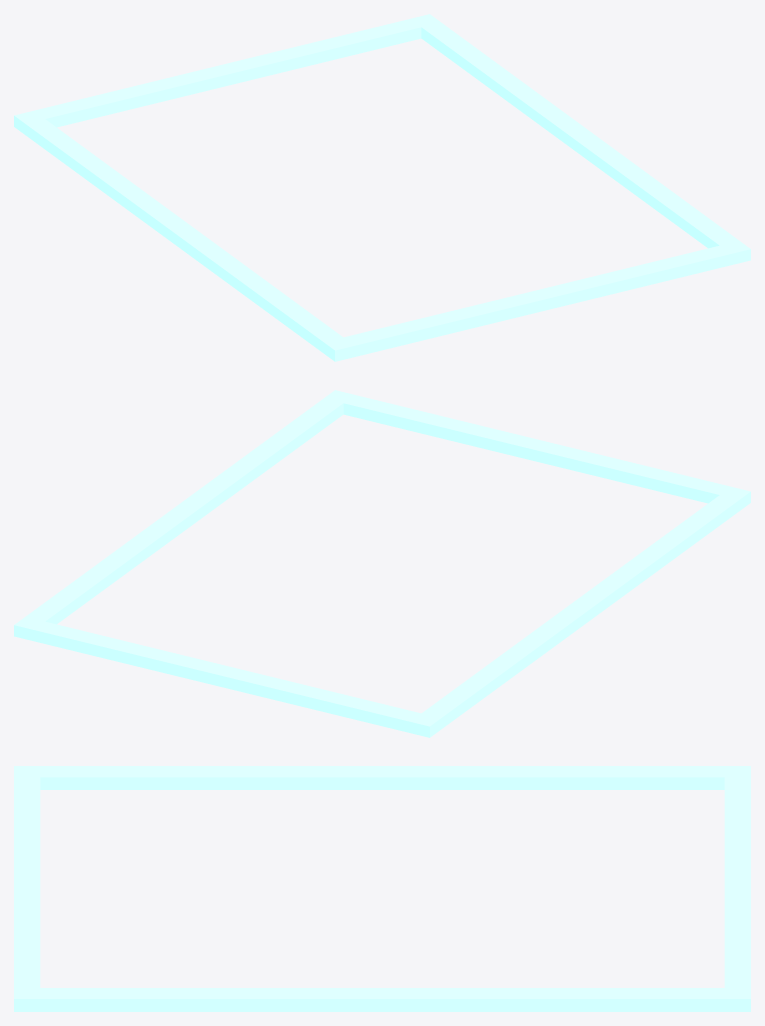
File: sp_gt_rim_t.glb
The picture shows the model from 3 angles, top to bottom: view 1: azimuth 30°, elevation 25°; view 2: azimuth 150°, elevation 25°; view 3: azimuth 270°, elevation 25°; orthographic projection. The views are drawn at different scales.
Visible parts, largest first — view 1: spire; view 2: spire; view 3: spire.
Part boxes in pixels (x1,y1,x2,y2): spire: (14, 14, 750, 361); spire: (14, 390, 750, 737); spire: (14, 766, 750, 1011).
Size of the model in its own units: 0.462 by 0.012 by 0.618.
